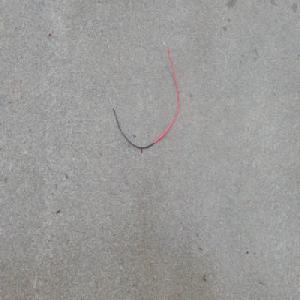Wire: (106, 37, 179, 149)
